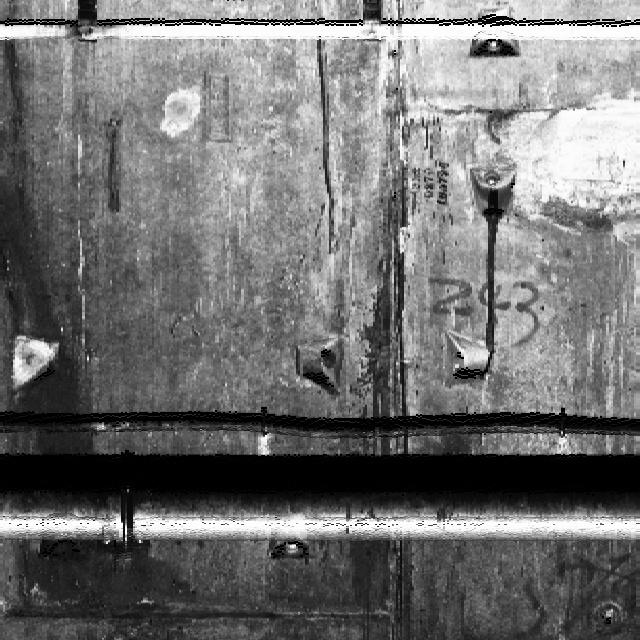leakage: (3, 25, 189, 639), (342, 43, 426, 639)
